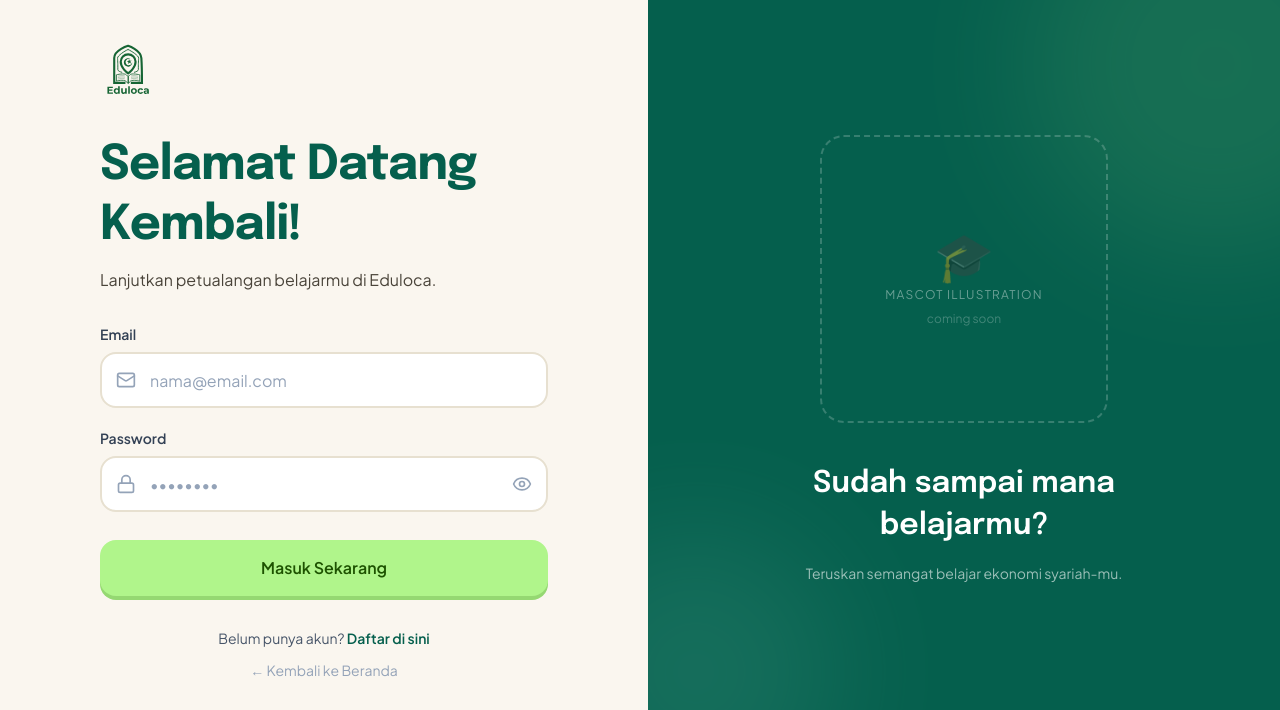
Test: F1 — Autentikasi › TC-F.05: Login dengan password salah
In the field labelled "Email": point(324, 380) left=100, top=352, right=548, bottom=408, type "student@test.com"
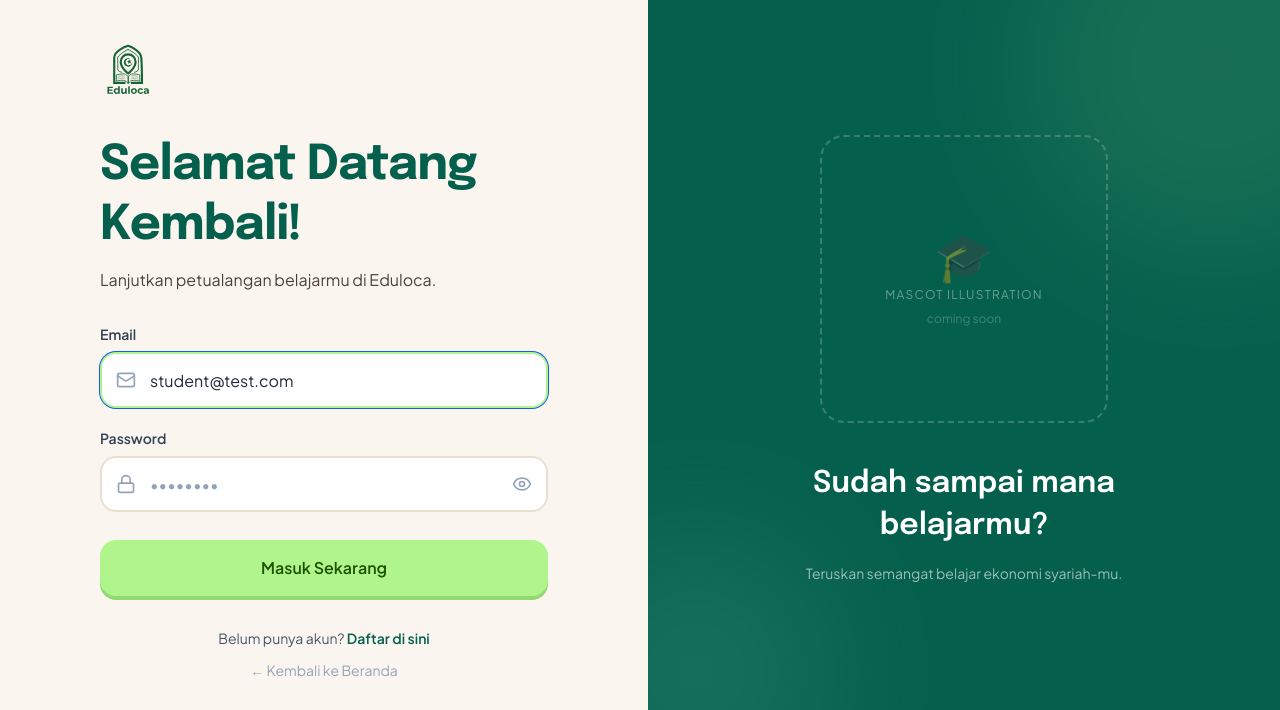
In the password field labelled "Password": point(324, 484) left=100, top=456, right=548, bottom=512, type "salahpassword"
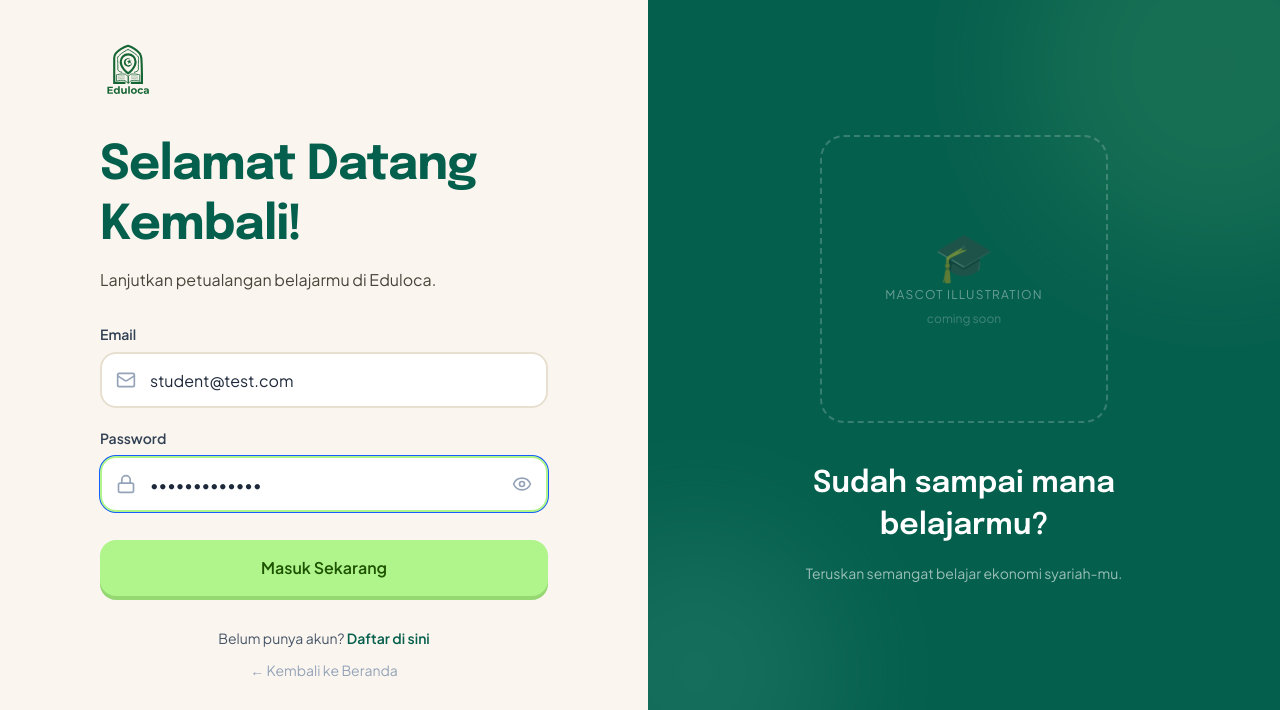
Click the button "Masuk Sekarang": point(324, 568) left=100, top=540, right=548, bottom=596
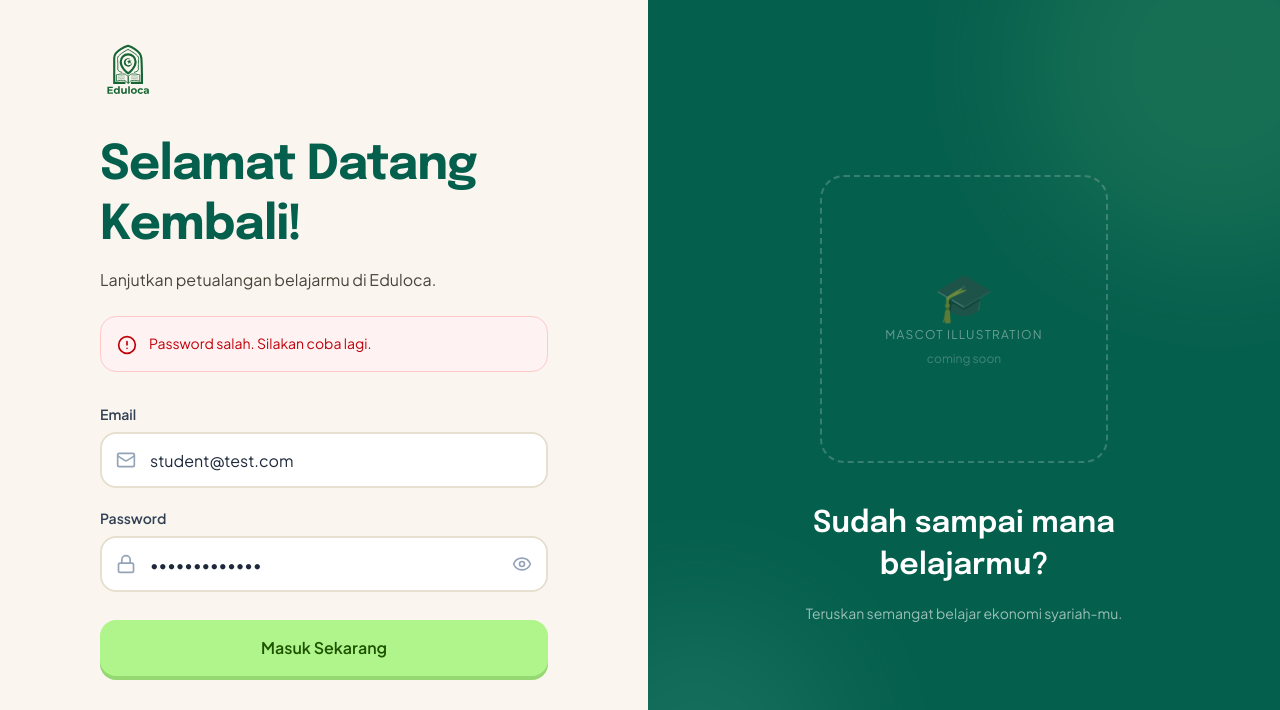
Expected: the text "Password salah. Silakan coba lagi." is shown, left=149, top=333, right=372, bottom=353
